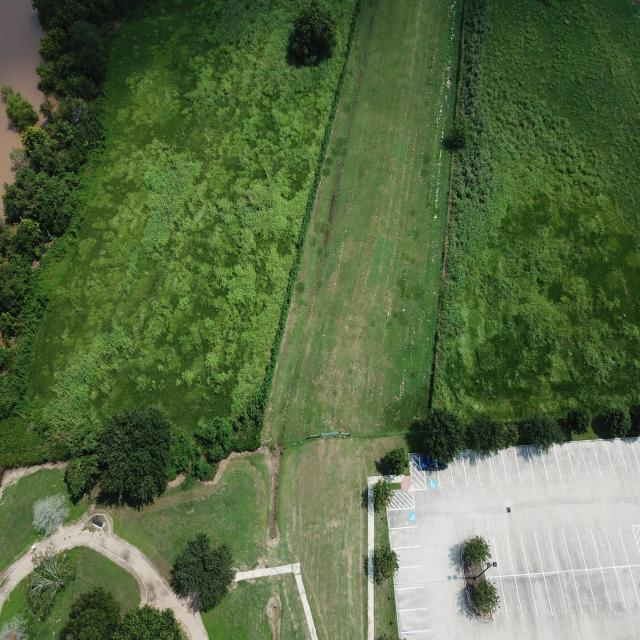fire: (0, 0, 43, 110), (0, 95, 20, 217)
